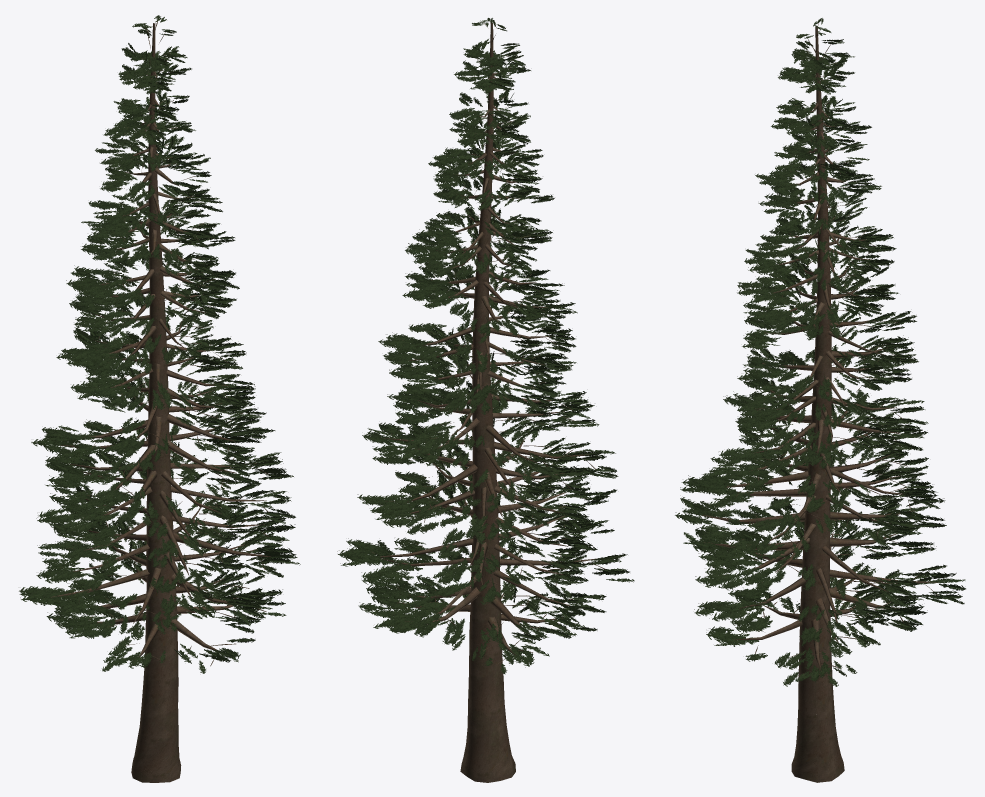
File: pine_tree_002_a_LOD1.gltf
3 views of the same model, side by side, from view 1: azimuth 30°, elevation 25°; view 2: azimuth 150°, elevation 25°; view 3: azimuth 270°, elevation 25° (orthographic).
Parts seen in each view (by area): view 1: pine_tree_002_a_LOD1; view 2: pine_tree_002_a_LOD1; view 3: pine_tree_002_a_LOD1.
Part boxes in pixels (bbox=[...]): pine_tree_002_a_LOD1: bbox=[19, 15, 300, 782]; pine_tree_002_a_LOD1: bbox=[337, 18, 634, 782]; pine_tree_002_a_LOD1: bbox=[675, 18, 965, 782].
Size of the model in its own units: 8.31 by 22.7 by 8.31.
2 materials, 2 textured.
